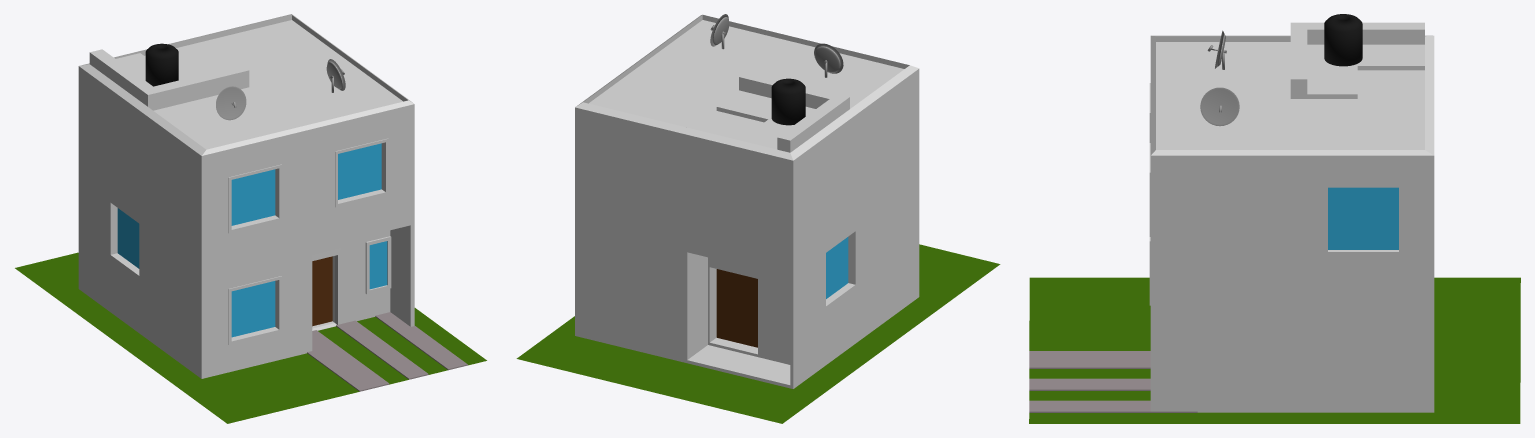
Rendered from casa_2.glb.
3 renders of one model, left to right at view 1: azimuth 30°, elevation 25°; view 2: azimuth 150°, elevation 25°; view 3: azimuth 270°, elevation 25°, orthographic. The views are drawn at different scales.
Parts seen in each view (by area): view 1: Casa_Infonavit_mode_1, Terreno_Infonativ_mod_0.001, Rotoplas_CI_0.006, Antena_Mod.011, Antena_Mod.010; view 2: Casa_Infonavit_mode_1, Terreno_Infonativ_mod_0.001, Rotoplas_CI_0.006, Antena_Mod.011, Antena_Mod.010; view 3: Casa_Infonavit_mode_1, Terreno_Infonativ_mod_0.001, Rotoplas_CI_0.006, Antena_Mod.010.
Part boxes in pixels (x1,y1,x2,y2): Casa_Infonavit_mode_1: (78, 14, 414, 378); Terreno_Infonativ_mod_0.001: (15, 252, 486, 423); Rotoplas_CI_0.006: (145, 43, 178, 86); Antena_Mod.011: (216, 86, 246, 120); Antena_Mod.010: (326, 59, 345, 92); Casa_Infonavit_mode_1: (575, 14, 919, 388); Terreno_Infonativ_mod_0.001: (516, 244, 1000, 423); Rotoplas_CI_0.006: (771, 78, 805, 125); Antena_Mod.011: (814, 43, 843, 77); Antena_Mod.010: (710, 14, 729, 49); Casa_Infonavit_mode_1: (1149, 22, 1434, 412); Terreno_Infonativ_mod_0.001: (1029, 277, 1520, 423); Rotoplas_CI_0.006: (1324, 14, 1362, 66); Antena_Mod.010: (1200, 87, 1239, 126).
Size of the model in its own units: 5.39 by 5.15 by 7.66.
